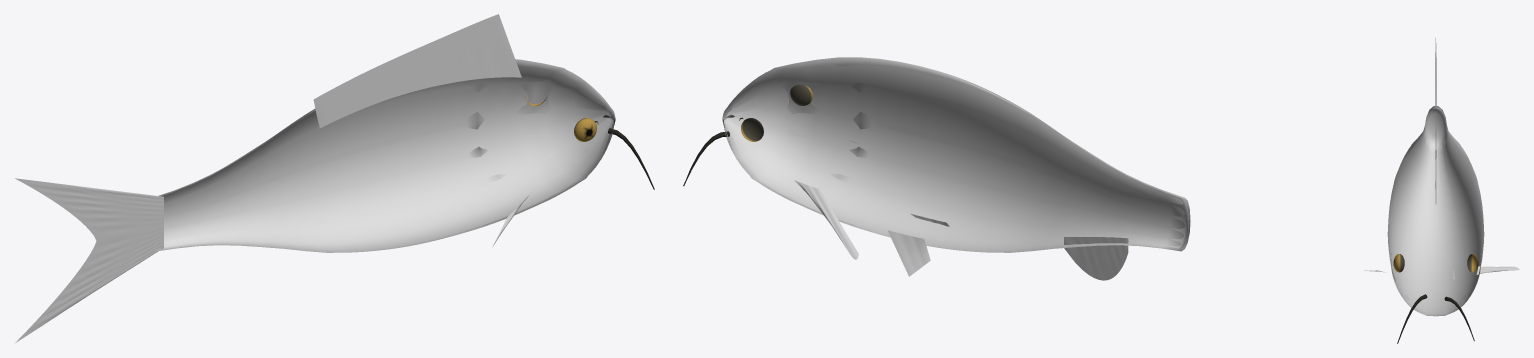
Rendered from common-carp.glb.
3 renders of one model, left to right at view 1: azimuth 30°, elevation 25°; view 2: azimuth 150°, elevation 25°; view 3: azimuth 270°, elevation 25°, orthographic. The views are drawn at different scales.
Parts seen in each view (by area): view 1: BodyLow, Fins, Body, Eyes; view 2: BodyLow, Body, Fins, Eyes; view 3: BodyLow, Body, Fins, Eyes, Extras.
Boxes of the visible parts, x1,y1,x2,y2 form: BodyLow: [155, 59, 615, 252]; Fins: [15, 14, 529, 342]; Body: [156, 67, 615, 252]; Eyes: [525, 96, 596, 141]; BodyLow: [722, 57, 1190, 252]; Body: [722, 63, 1188, 252]; Fins: [794, 140, 1128, 280]; Eyes: [741, 84, 812, 141]; BodyLow: [1387, 106, 1484, 315]; Body: [1388, 107, 1483, 316]; Fins: [1364, 37, 1519, 279]; Eyes: [1393, 254, 1478, 272]; Extras: [1397, 294, 1474, 343].
Size of the model in its own units: 0.6468 by 0.226 by 0.2045.
